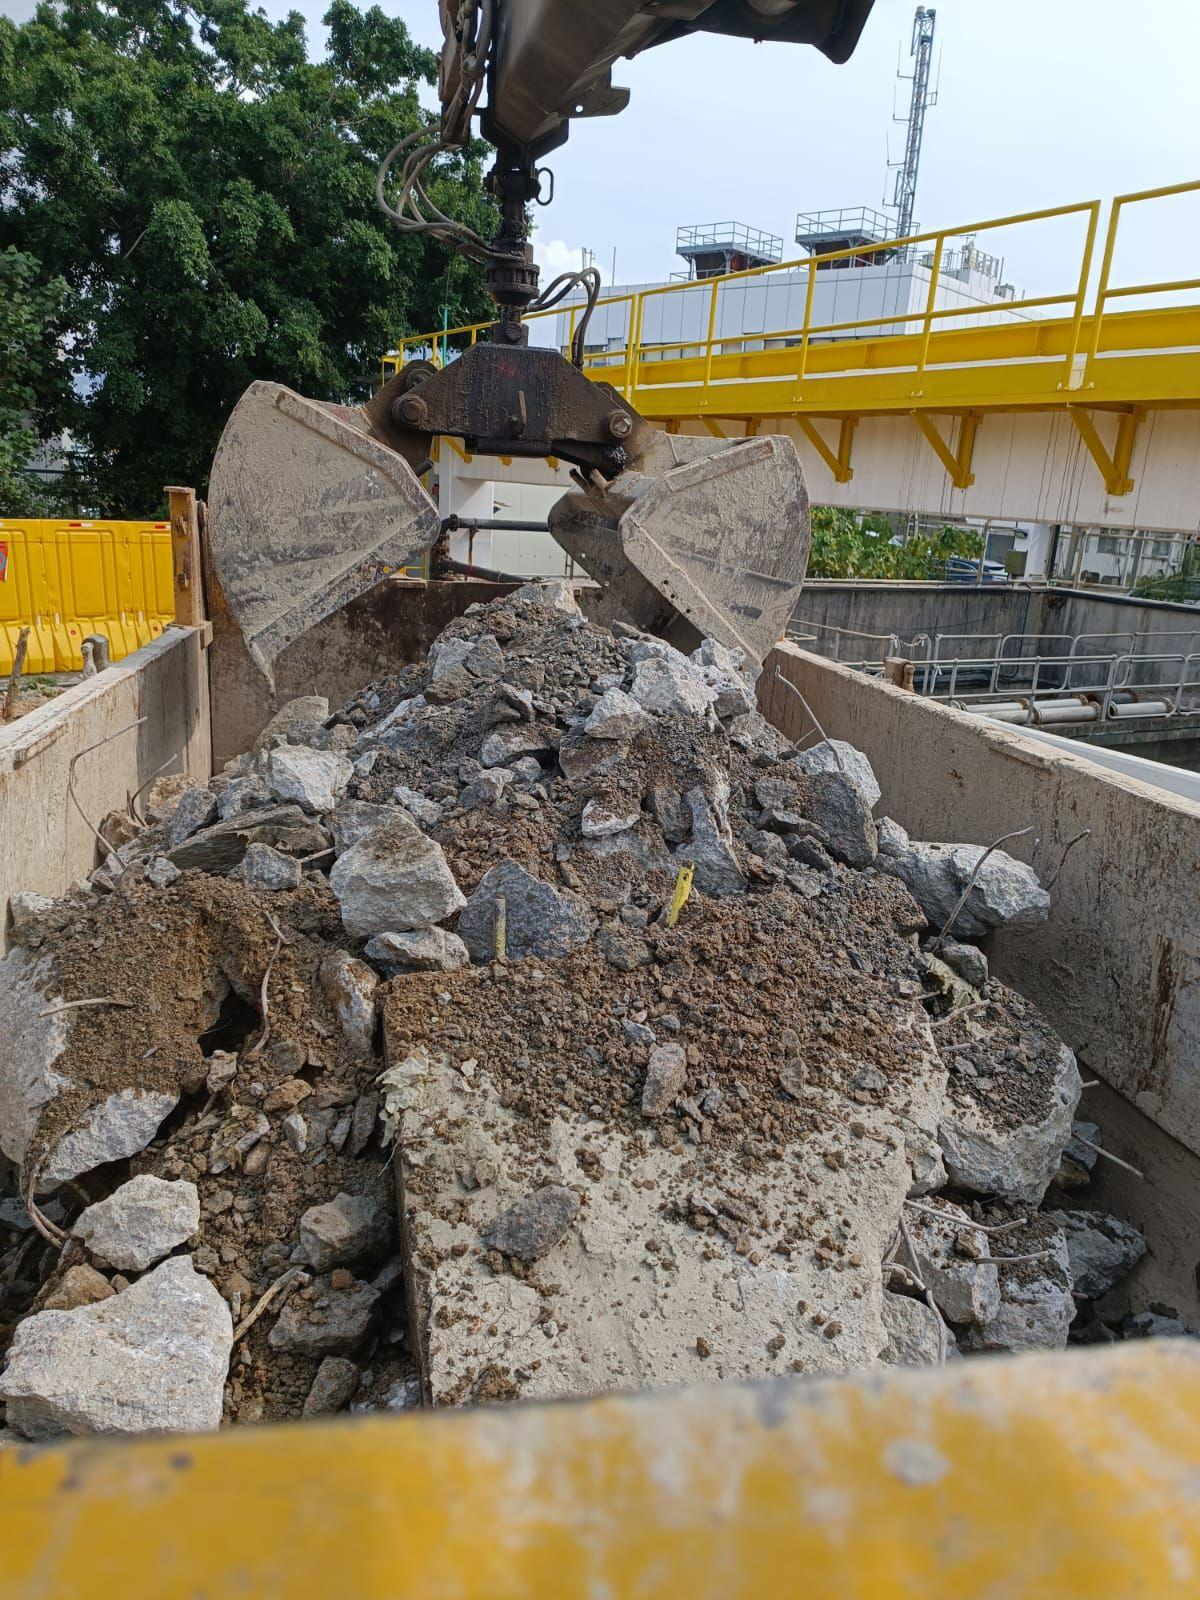dry: (25, 635, 1123, 1422)
